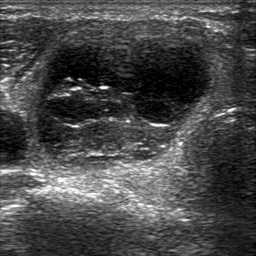mass: (34, 40, 211, 154)
